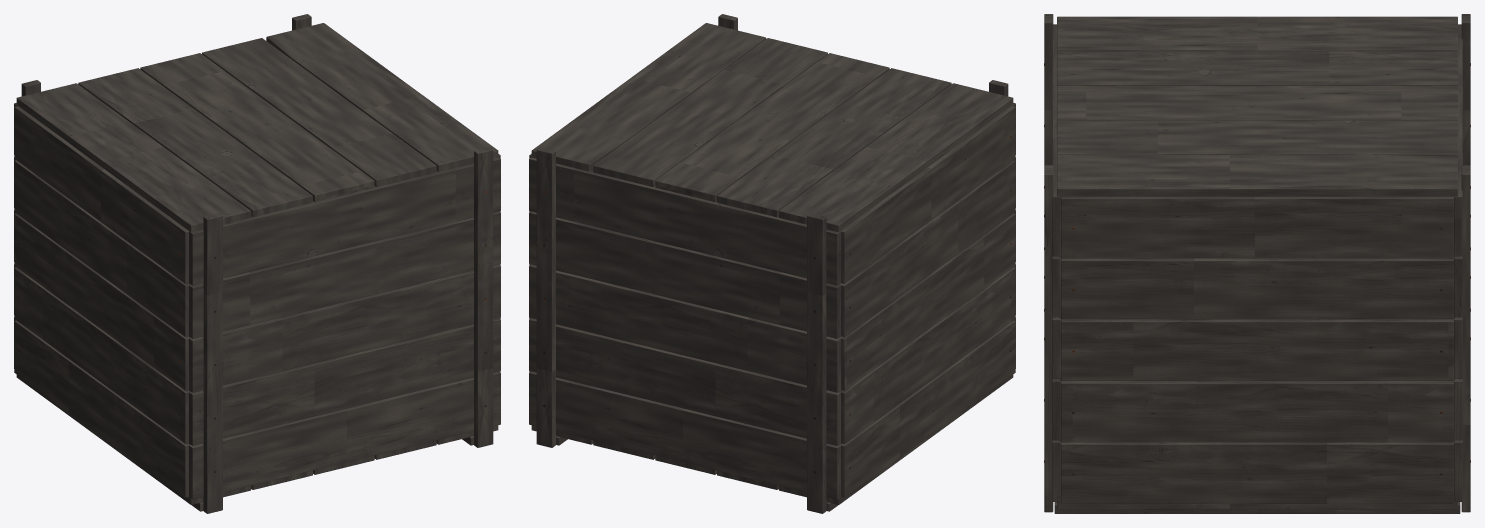
Rendered from SM_timber_shipping_crate_d29fda1852.fbx.
3 renders of one model, left to right at view 1: azimuth 30°, elevation 25°; view 2: azimuth 150°, elevation 25°; view 3: azimuth 270°, elevation 25°, orthographic. The views are drawn at different scales.
Parts seen in each view (by area): view 1: SM_timber_shipping_crate_d29fda1852; view 2: SM_timber_shipping_crate_d29fda1852; view 3: SM_timber_shipping_crate_d29fda1852.
Part boxes in pixels (x1,y1,x2,y2): SM_timber_shipping_crate_d29fda1852: [14, 14, 500, 513]; SM_timber_shipping_crate_d29fda1852: [529, 14, 1015, 513]; SM_timber_shipping_crate_d29fda1852: [1044, 14, 1470, 513].
Size of what is drawn, in the model's own units: 106 by 108 by 94.9.
Materials: 2 (2 with a texture image).
